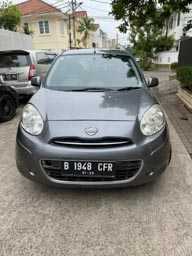plat: (61, 159, 115, 171)
